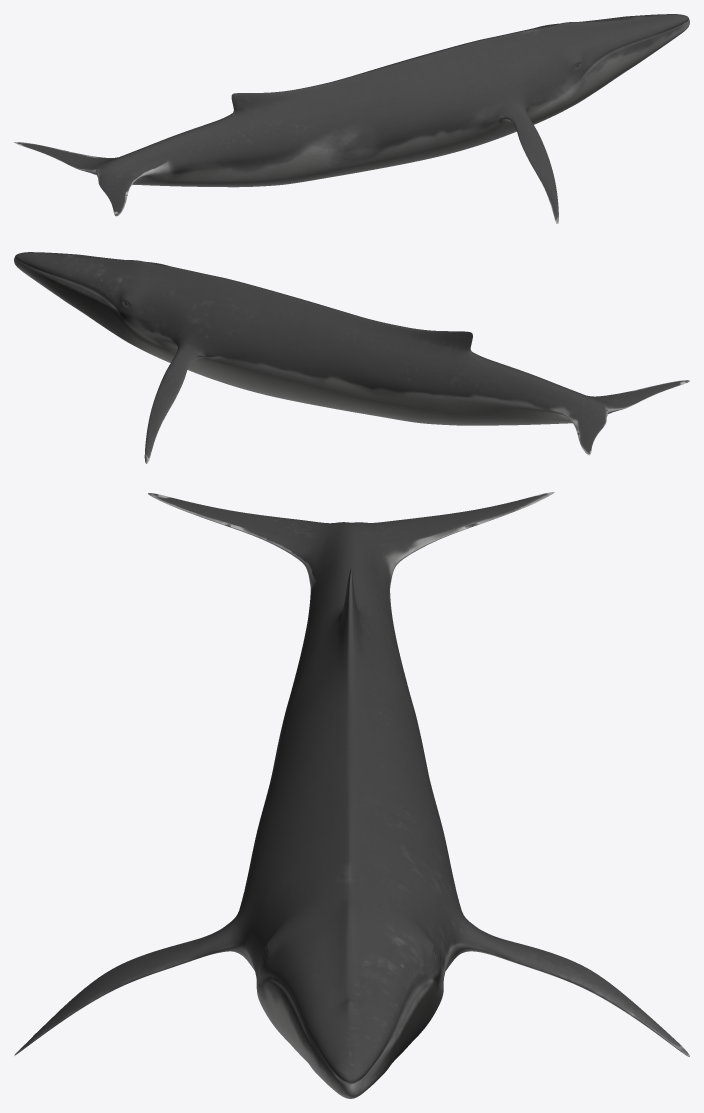
File: model-fin-whale-woelper.glb
3 renders of one model, top to bottom at view 1: azimuth 30°, elevation 25°; view 2: azimuth 150°, elevation 25°; view 3: azimuth 270°, elevation 25°, orthographic. The views are drawn at different scales.
Parts seen in each view (by area): view 1: Johann Woelper supplied fin whale; view 2: Johann Woelper supplied fin whale; view 3: Johann Woelper supplied fin whale.
Boxes of the visible parts, box(x1,y1,x2,y2) form: Johann Woelper supplied fin whale: box(14, 14, 689, 223); Johann Woelper supplied fin whale: box(14, 252, 689, 463); Johann Woelper supplied fin whale: box(14, 492, 689, 1098).
Bounding box in the file's own units: 3.85 × 0.7523 × 1.8.
1 material, 1 textured.
